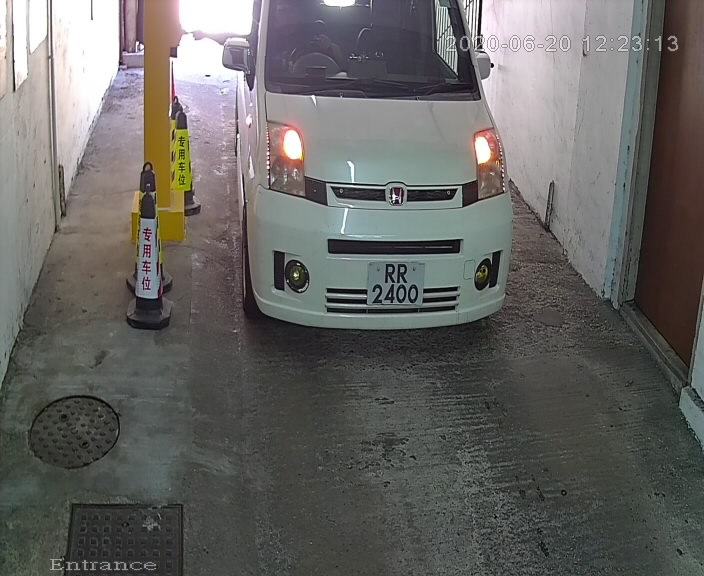privatecar: (208, 3, 524, 354)
